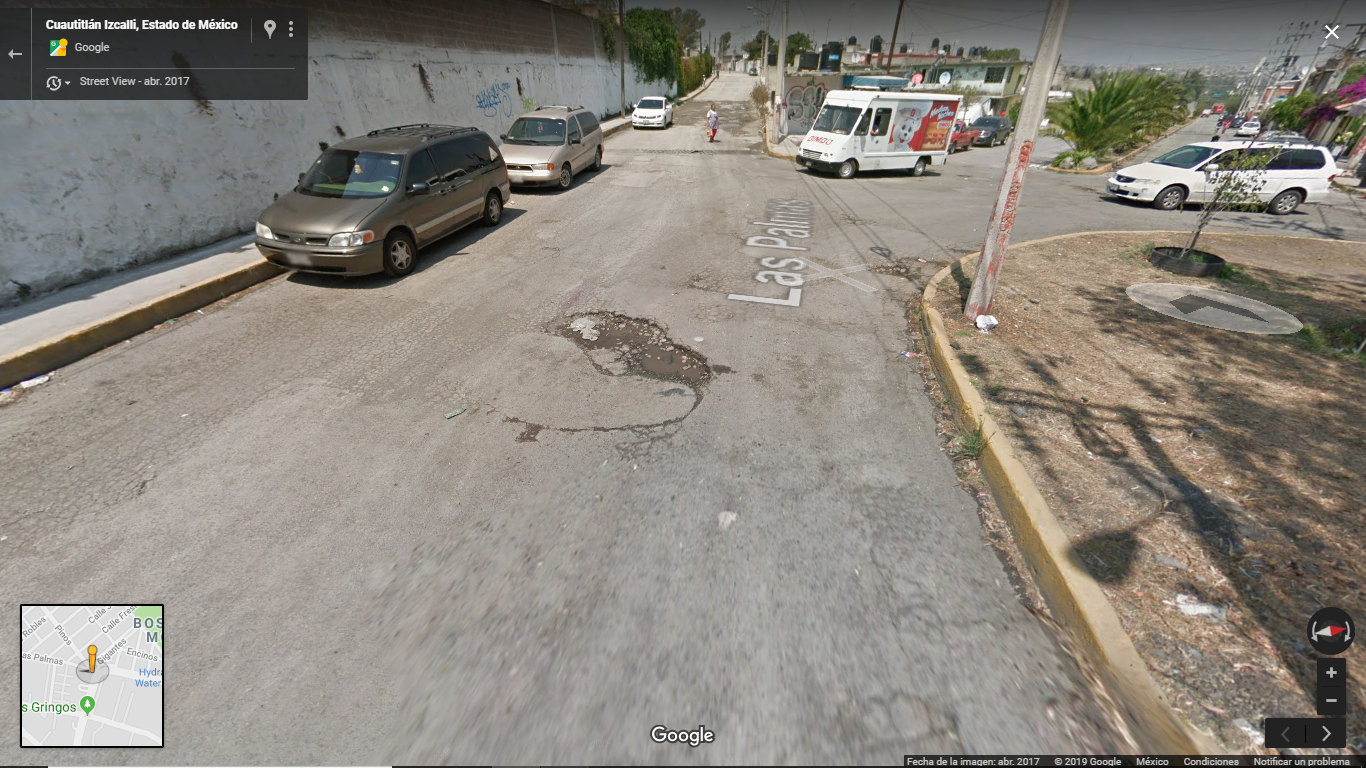pothole: (534, 297, 717, 402), (869, 235, 922, 291)
